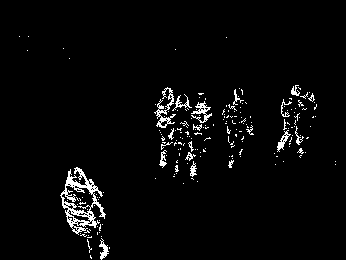person: (61, 167, 108, 260), (222, 88, 255, 170), (190, 91, 212, 180), (156, 86, 175, 167), (172, 94, 191, 173), (278, 85, 298, 152), (297, 91, 317, 158)
